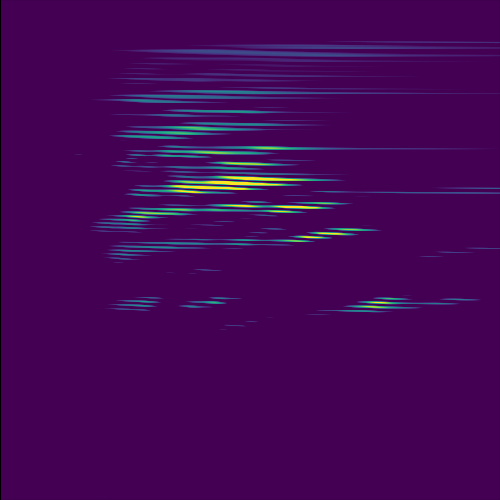semblance: (163, 172, 326, 198), (284, 223, 375, 244), (257, 199, 345, 219), (340, 294, 417, 316)
